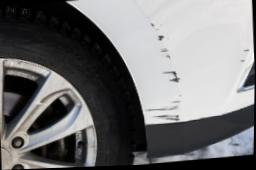Fender: (114, 0, 212, 128)
